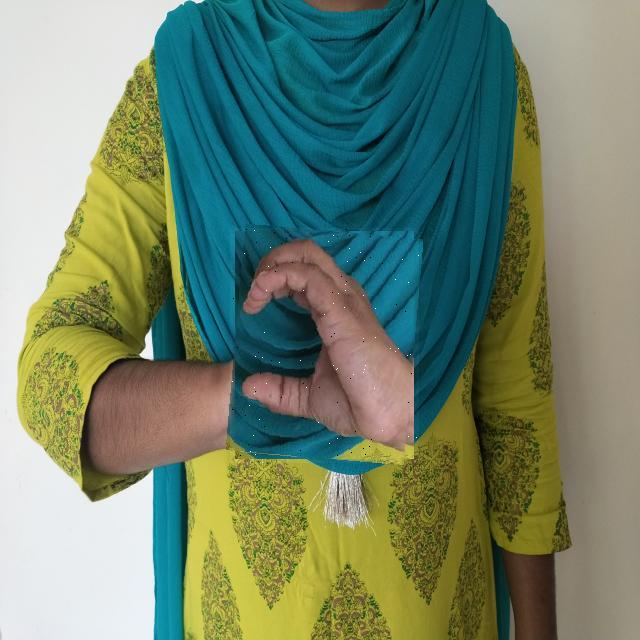C: (230, 228, 419, 463)
